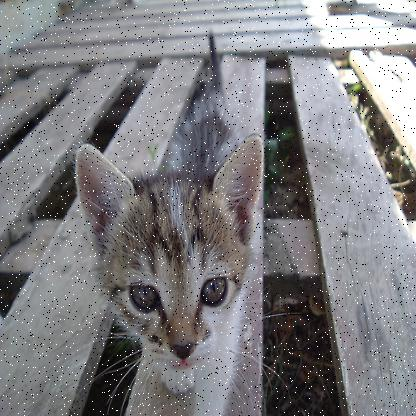cat: (77, 64, 282, 408)
